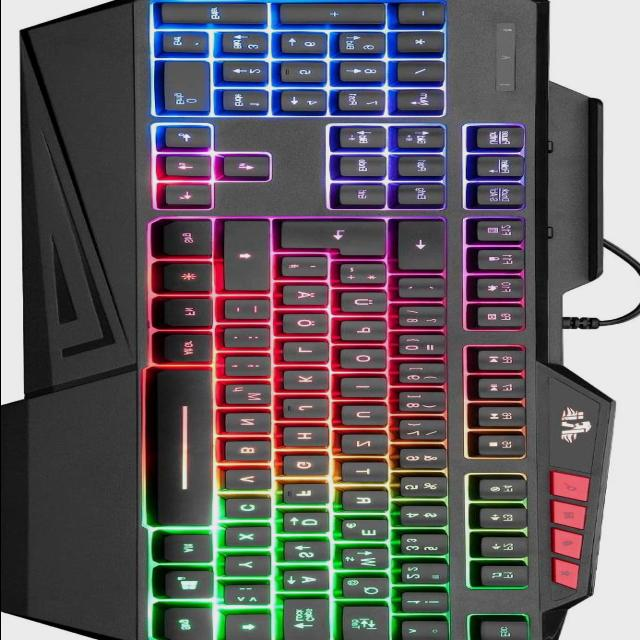0: (400, 336, 452, 358)
1: (403, 593, 453, 615)
2: (402, 564, 454, 587)
3: (400, 534, 454, 559)
4: (401, 506, 453, 529)
5: (401, 477, 453, 500)
6: (402, 448, 452, 472)
7: (400, 420, 452, 443)
8: (399, 392, 451, 416)
9: (400, 363, 452, 387)
a: (284, 571, 336, 593)
accent: (402, 279, 452, 301)
ae: (284, 286, 336, 309)
alt-left: (163, 535, 220, 565)
altgr-right: (166, 335, 220, 365)
b: (228, 442, 278, 464)
c: (227, 499, 277, 521)
caret: (404, 621, 454, 640)
comma: (228, 358, 278, 380)
d: (285, 514, 337, 536)
del: (400, 222, 450, 273)
e: (343, 521, 395, 544)
enter: (280, 222, 394, 259)
f: (286, 485, 336, 507)
g: (286, 457, 336, 479)
h: (286, 428, 336, 450)
hash: (283, 258, 335, 280)
i: (344, 378, 394, 400)
j: (286, 400, 336, 422)
k: (285, 371, 337, 393)
keyboard: (108, 0, 572, 640)
l: (286, 343, 336, 365)
less: (226, 586, 278, 608)
m: (227, 385, 277, 409)
minus: (227, 301, 277, 323)
n: (228, 414, 278, 436)
o: (343, 349, 393, 373)
oe: (285, 315, 335, 337)
p: (343, 322, 393, 344)
plus: (343, 265, 393, 288)
point: (227, 329, 277, 351)
q: (343, 578, 395, 602)
r: (345, 492, 395, 514)
s: (285, 543, 337, 565)
shift-left: (227, 615, 277, 640)
shift-lock: (284, 599, 336, 640)
shift-right: (227, 222, 277, 294)
space: (30, 0, 154, 368), (14, 362, 146, 640), (154, 369, 222, 529)
ss: (401, 308, 451, 331)
strg-left: (164, 608, 220, 640)
strg-right: (163, 221, 219, 259)
t: (345, 463, 395, 485)
tab: (343, 606, 395, 640)
u: (344, 406, 394, 428)
ue: (343, 293, 393, 315)
v: (228, 471, 278, 493)
w: (344, 549, 396, 571)
x: (227, 528, 277, 550)
y: (226, 557, 278, 579)
z: (345, 435, 395, 457)
